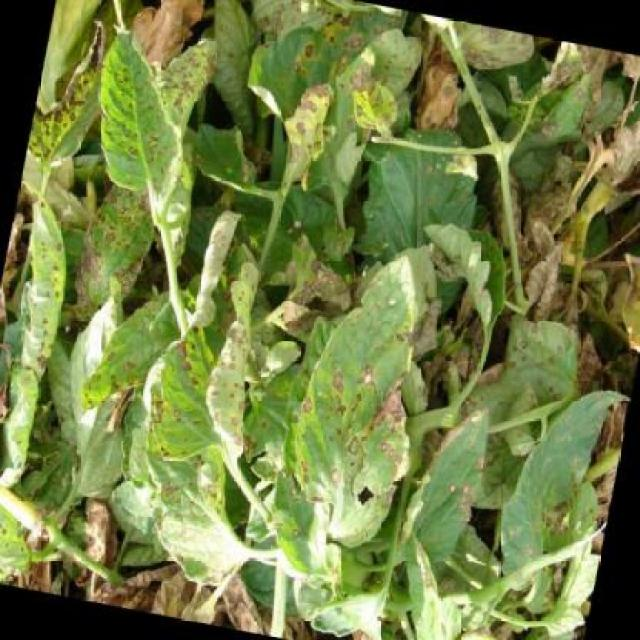Septoria leaf spot: (278, 256, 436, 561), (95, 388, 278, 608), (144, 244, 284, 481), (66, 14, 210, 214), (389, 386, 511, 586), (77, 257, 202, 431), (232, 10, 349, 187)
